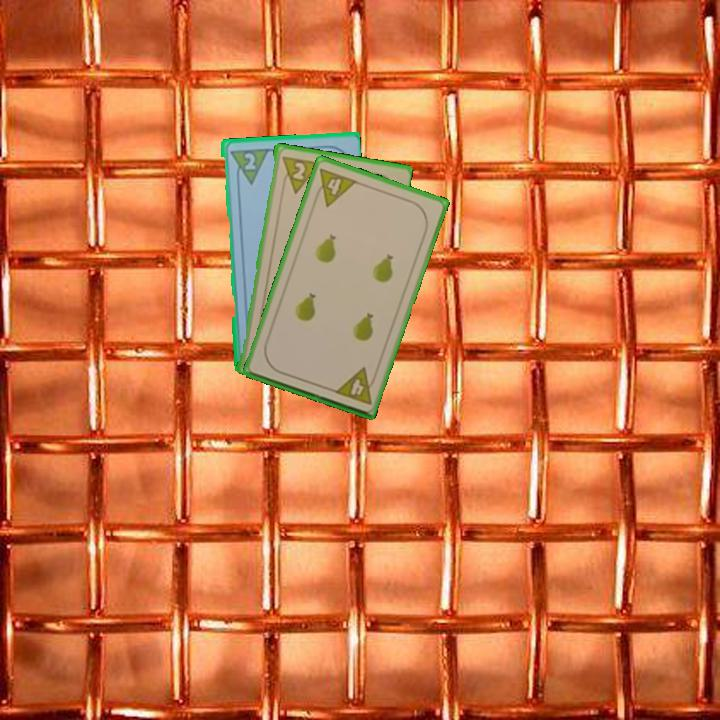2p: (278, 152, 321, 196), (239, 149, 258, 172)
4p: (310, 164, 360, 209), (331, 364, 380, 407)
